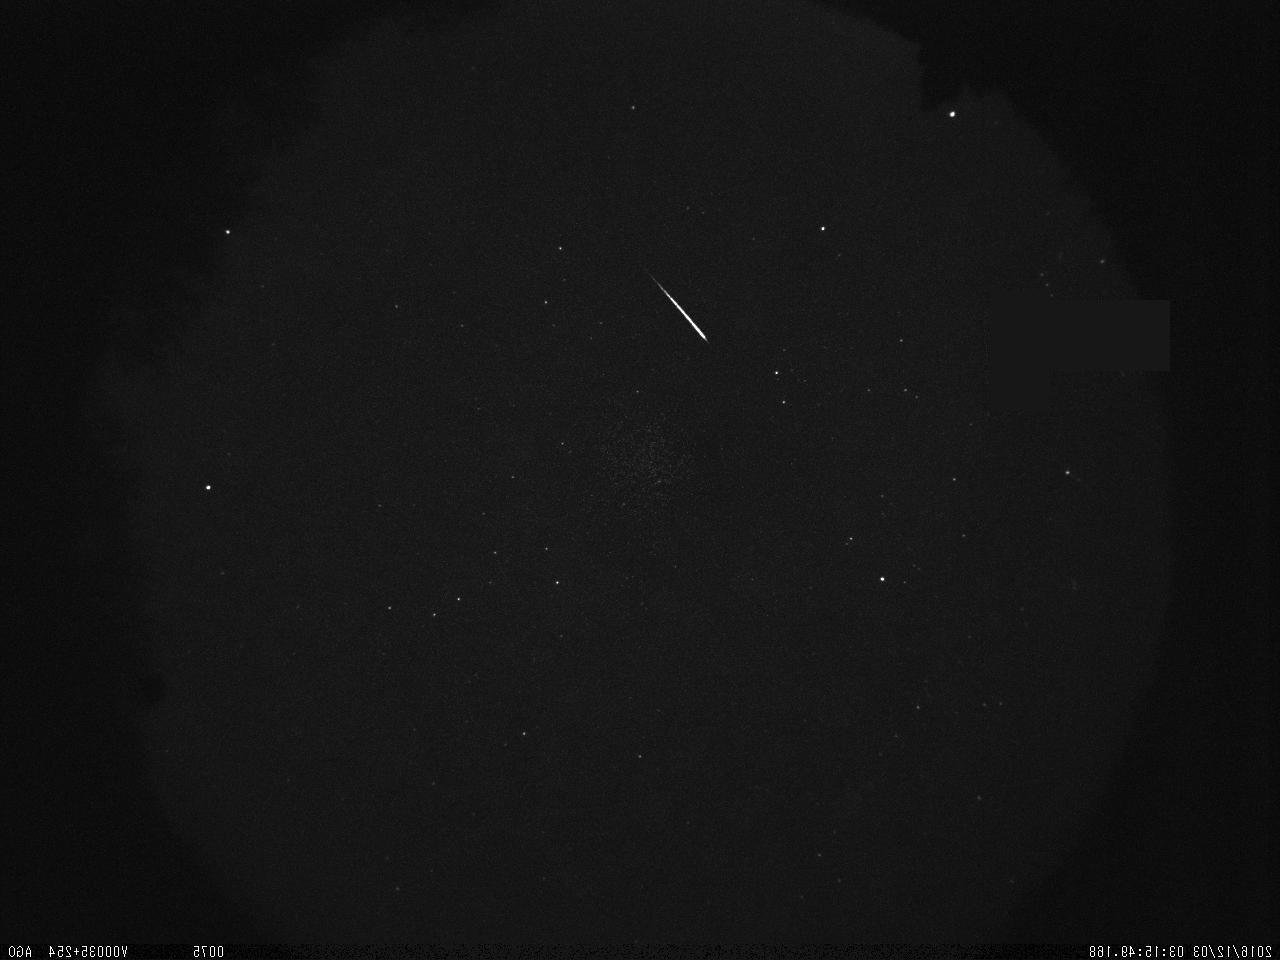meteor: (634, 264, 717, 352)
